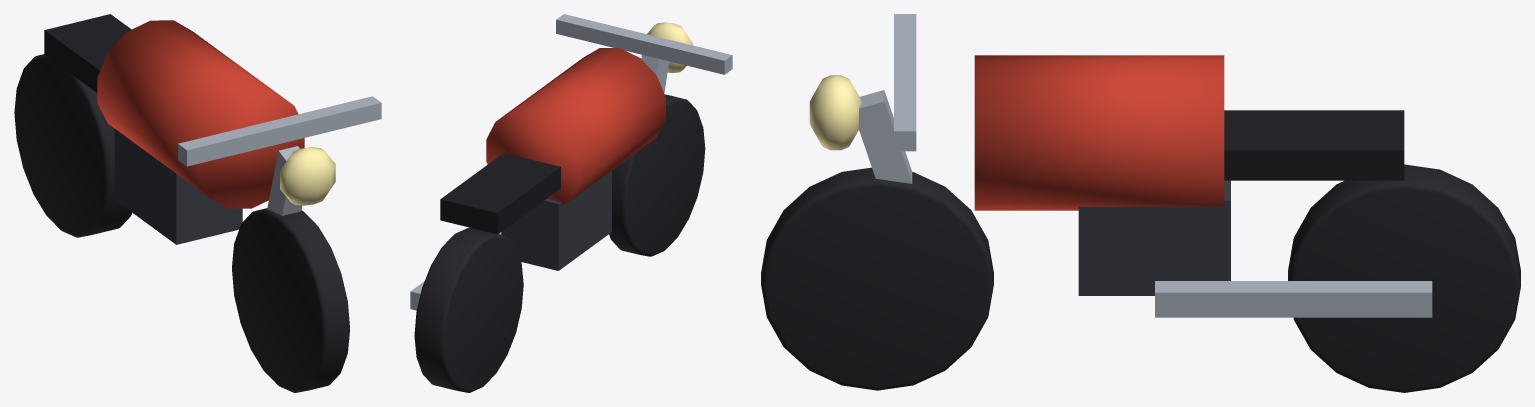
File: motorcycle.glb
The picture shows the model from 3 angles, left to right: view 1: azimuth 30°, elevation 25°; view 2: azimuth 150°, elevation 25°; view 3: azimuth 270°, elevation 25°; orthographic projection. The views are drawn at different scales.
Parts seen in each view (by area): view 1: body, wheelF, wheelB; view 2: body, wheelB, wheelF; view 3: body, wheelF, wheelB.
Part boxes in pixels (left/top/right/bottom): body: left=44, top=14, right=381, bottom=244; wheelF: left=232, top=208, right=349, bottom=392; wheelB: left=14, top=54, right=131, bottom=237; body: left=410, top=14, right=732, bottom=310; wheelB: left=414, top=227, right=523, bottom=392; wheelF: left=609, top=94, right=705, bottom=256; body: left=809, top=14, right=1432, bottom=317; wheelF: left=761, top=167, right=993, bottom=390; wheelB: left=1288, top=164, right=1520, bottom=392.
Size of the model in its own units: 1 by 1.28 by 2.74.
